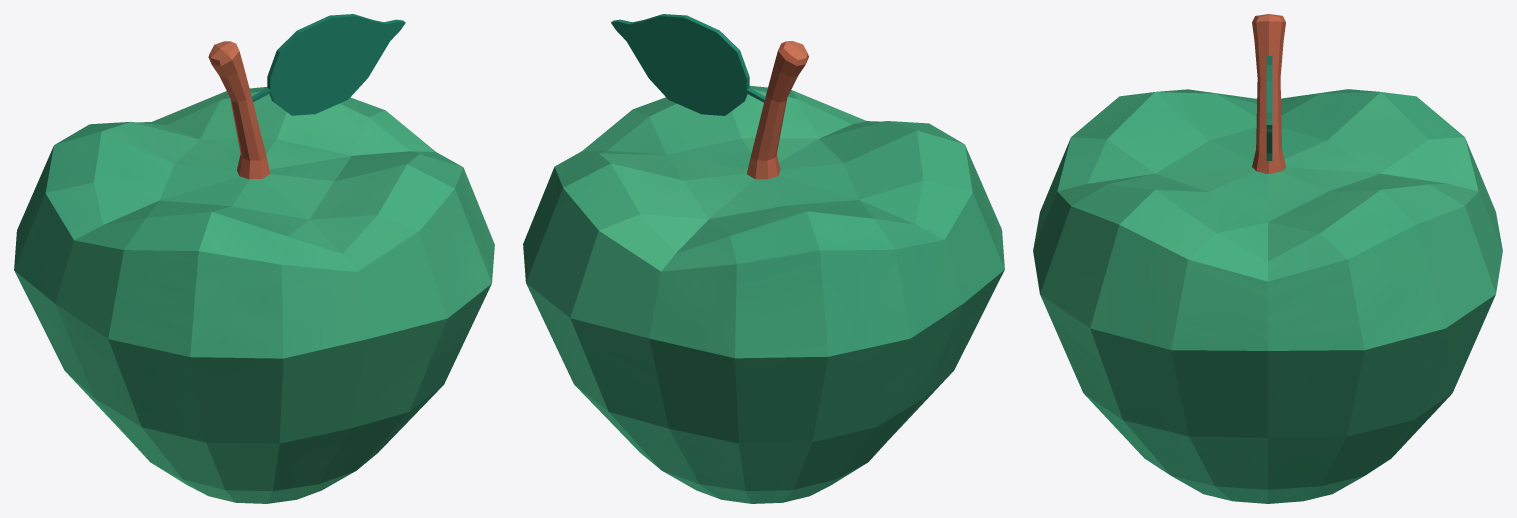
File: apple.glb
3 views of the same model, side by side, from view 1: azimuth 30°, elevation 25°; view 2: azimuth 150°, elevation 25°; view 3: azimuth 270°, elevation 25° (orthographic). The views are drawn at different scales.
Parts seen in each view (by area): view 1: Apple_Green_Cube.039; view 2: Apple_Green_Cube.039; view 3: Apple_Green_Cube.039.
Part boxes in pixels (box(x1,y1,x2,y2)): Apple_Green_Cube.039: box(14, 14, 494, 503); Apple_Green_Cube.039: box(523, 14, 1004, 503); Apple_Green_Cube.039: box(1033, 14, 1502, 503).
Size of the model in its own units: 0.3526 by 0.3743 by 0.351.
1 material, 1 textured.
